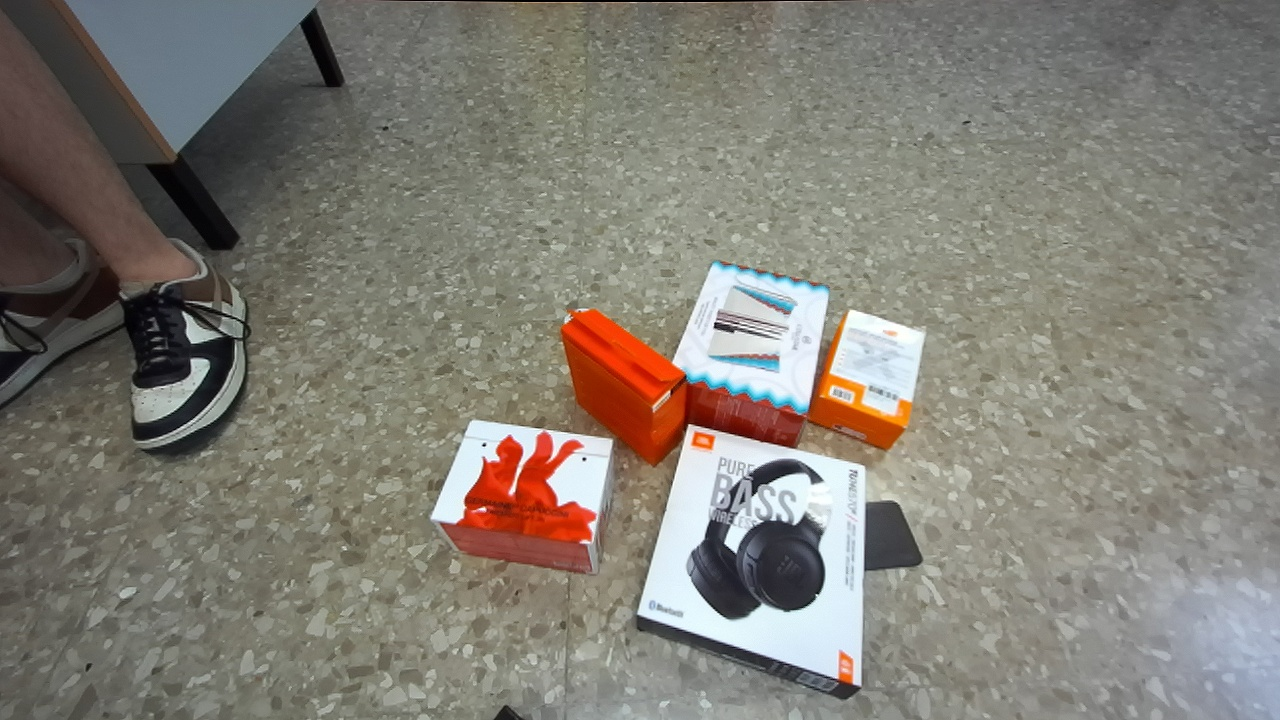caja_busbar: (672, 262, 829, 446)
caja_chasis: (636, 425, 867, 696)
caja_manguera: (561, 310, 684, 463)
caja_pcb: (811, 310, 924, 448)
caja_potencia: (431, 420, 614, 573)
